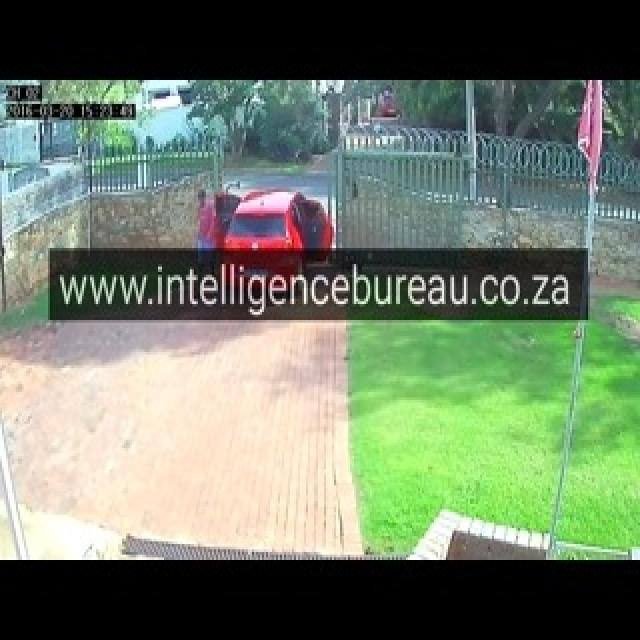thief: (191, 184, 227, 275)
